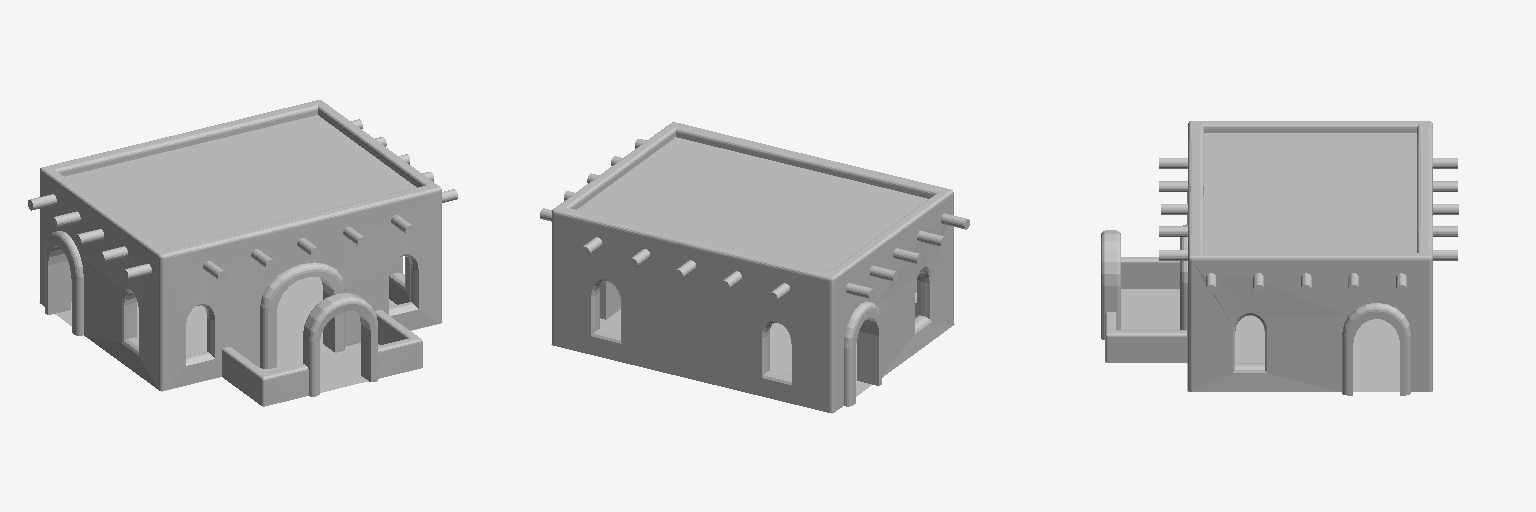
The model's file is adobe_house.obj.
3 renders of one model, left to right at view 1: azimuth 30°, elevation 25°; view 2: azimuth 150°, elevation 25°; view 3: azimuth 270°, elevation 25°, orthographic.
Bounding box in the file's own units: 14 × 5.48 × 13.2.